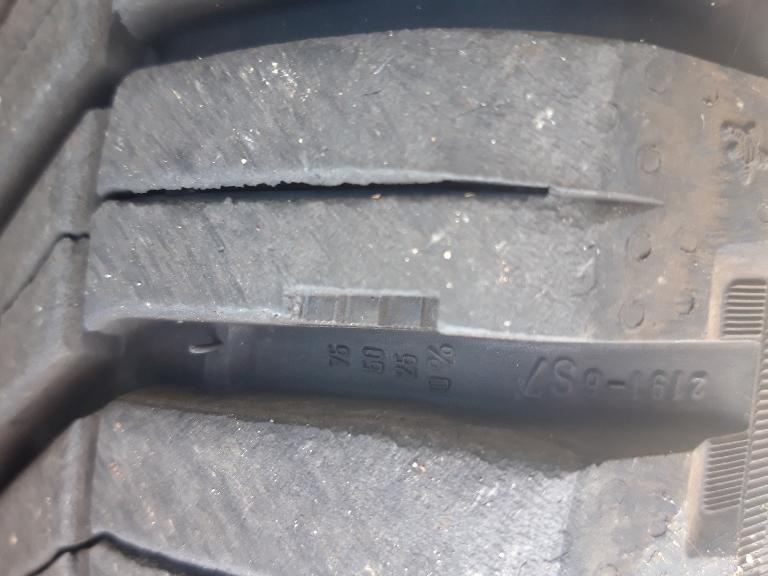temoin:90: (257, 276, 450, 344)
